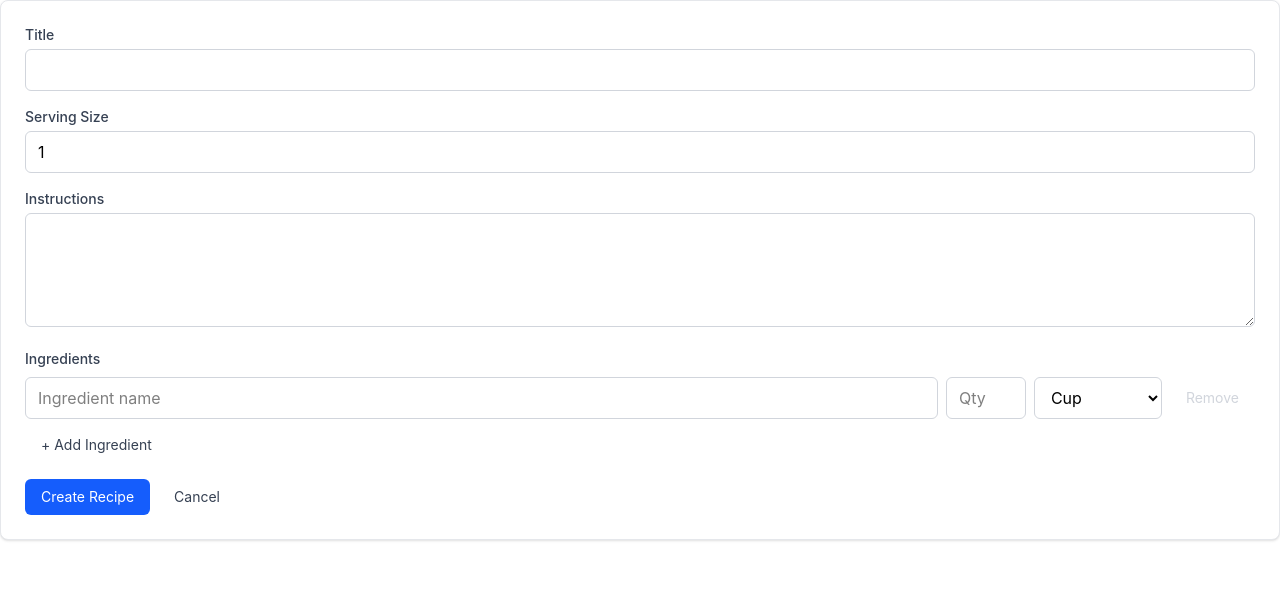
RecipeForm › removes an ingredient row when its Remove button is clicked
Step 1. Click the button "+ Add Ingredient" → (96, 445), box 25,427 -> 168,463
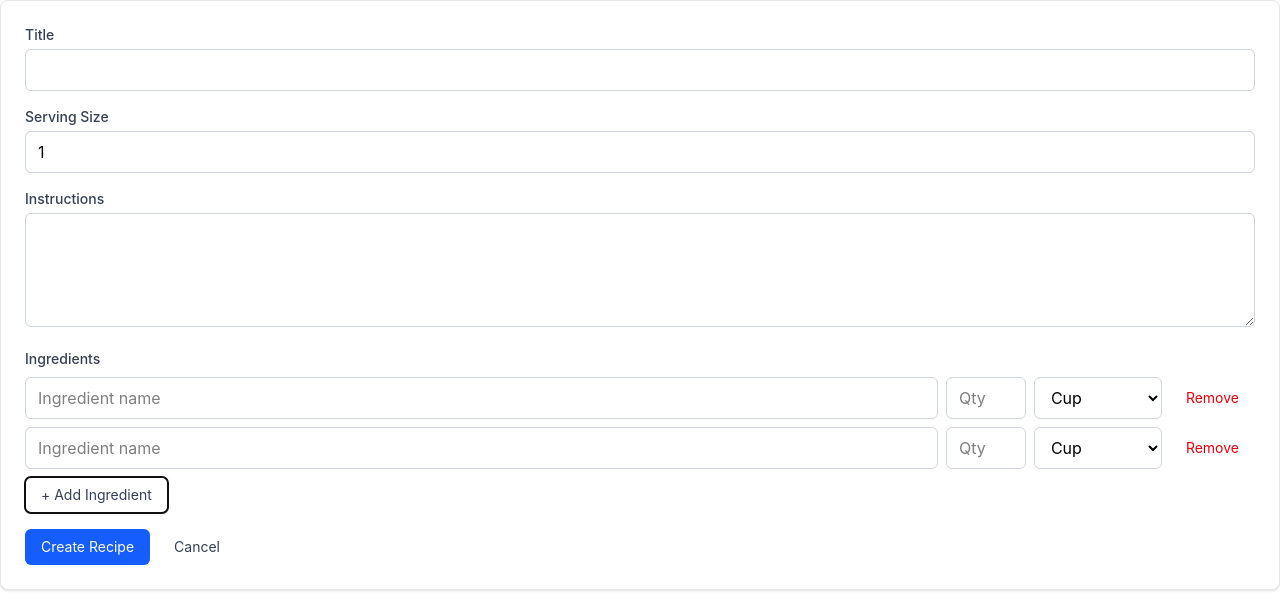
Check: the number of fields with placeholder "Ingredient name" is 2, box 25,377 -> 938,419; 25,427 -> 938,469
Step 2. Click the 1st button "Remove" → (1212, 398), box 1170,377 -> 1255,419
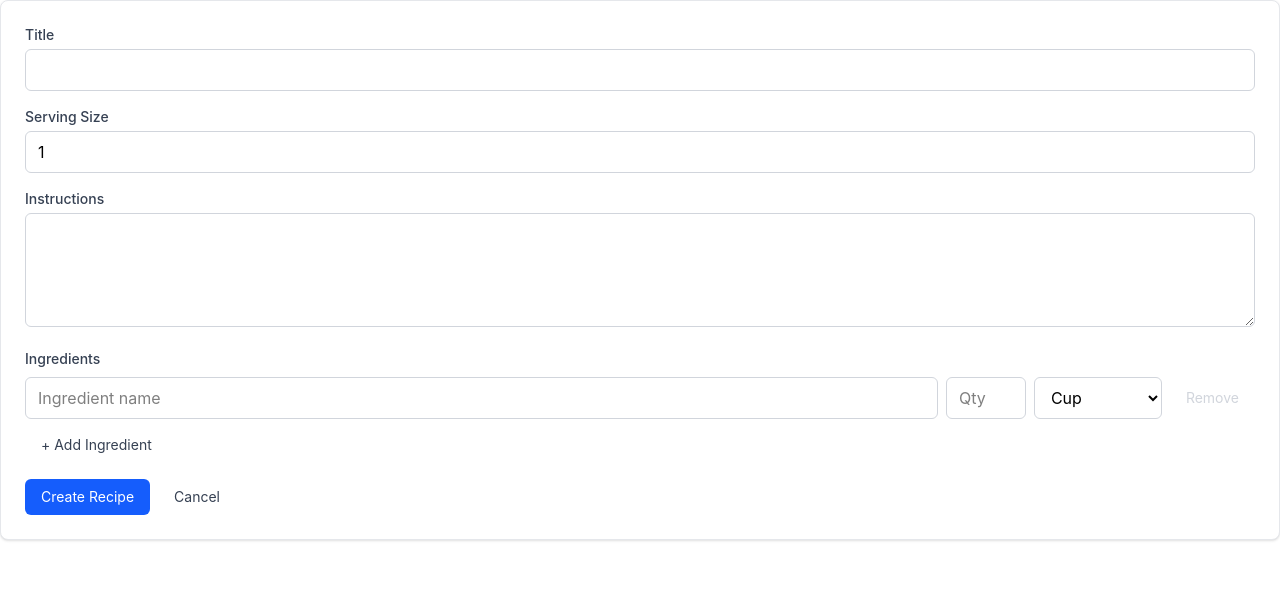
Check: the number of fields with placeholder "Ingredient name" is 1, box 25,377 -> 938,419
